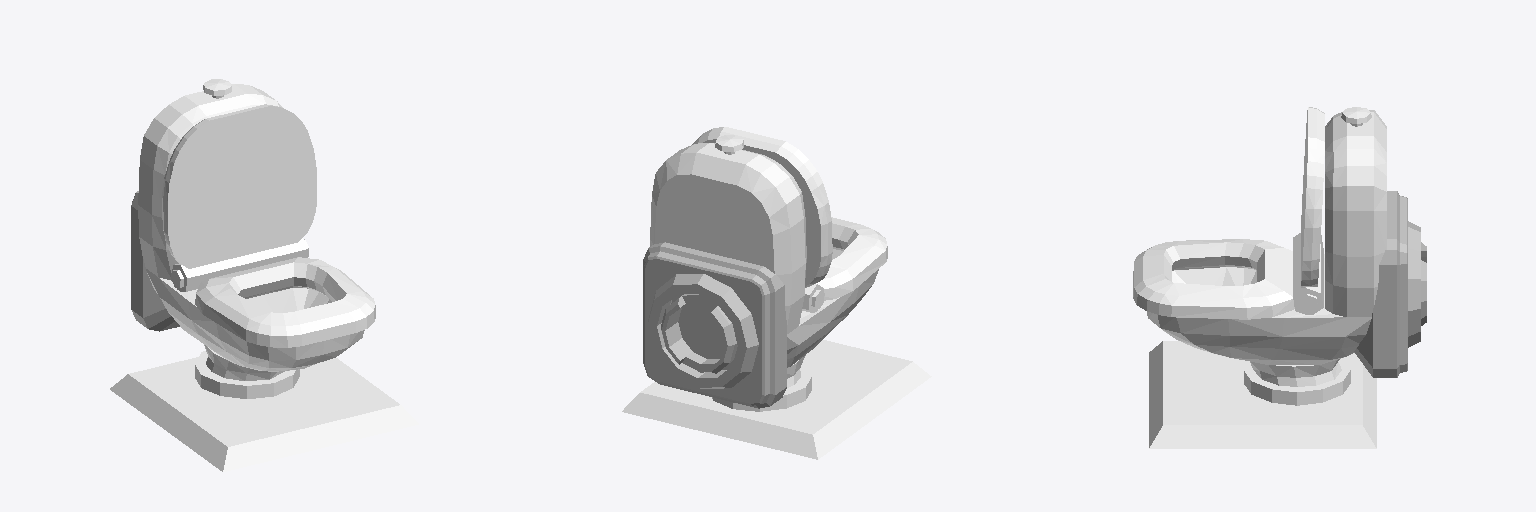
The model's file is fant_toilet.obj.
The picture shows the model from 3 angles: view 1: azimuth 30°, elevation 25°; view 2: azimuth 150°, elevation 25°; view 3: azimuth 270°, elevation 25°; orthographic projection.
Visible parts, largest first — view 1: obj_fant_toilet_Mesh; view 2: obj_fant_toilet_Mesh; view 3: obj_fant_toilet_Mesh.
Part boxes in pixels (left/top/right/bottom): obj_fant_toilet_Mesh: left=110, top=79, right=418, bottom=471; obj_fant_toilet_Mesh: left=622, top=127, right=931, bottom=459; obj_fant_toilet_Mesh: left=1133, top=107, right=1426, bottom=448.
Size of the model in its own units: 2.65 by 3.71 by 3.41.